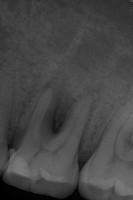Dental Caries: (42, 71, 100, 135)
